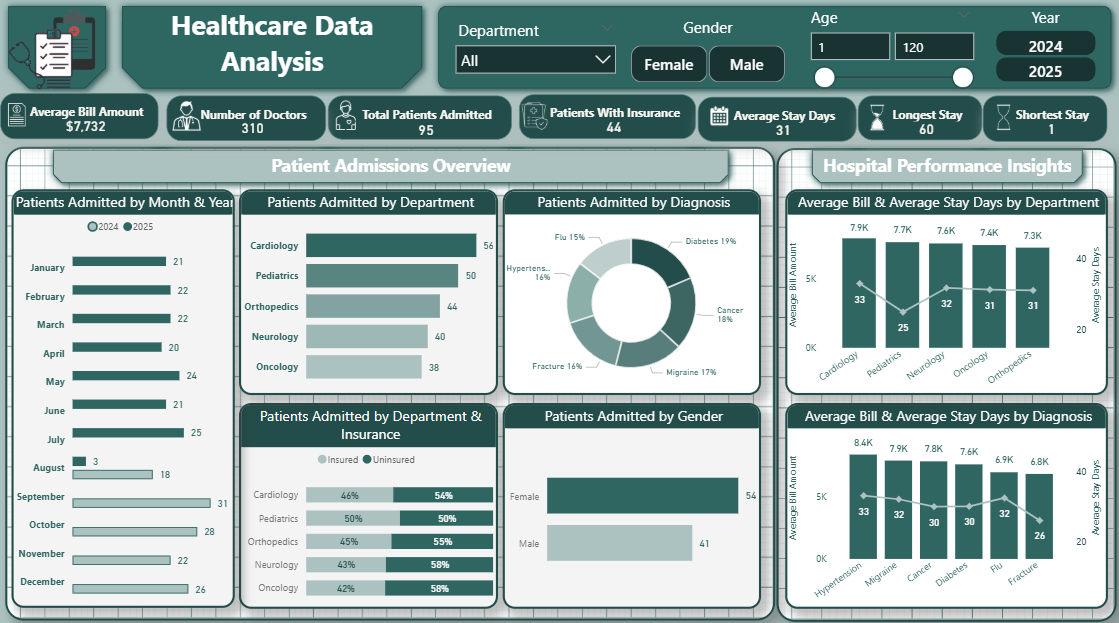

Layout of this report page (visuals, bound fields, positions):
{"tool":"powerbi","page":{"name":"Healthcare Data Analysis Dashboard","canvas":[1280,720],"ordinal":0},"visuals":[{"type":"image","box":[888.8,171.2,388.8,541.2],"z":0},{"type":"image","box":[7.5,170,880,541.2],"z":1000},{"type":"shape","box":[492.5,0,787.5,112.5],"z":2000},{"type":"slicer","fields":{"Values":["healthcare_patient_records.Department"]},"box":[516.7,21.4,192.9,67.9],"z":3000},{"type":"advancedSlicerVisual","fields":{"Values":["healthcare_patient_records.AdmissionDate.Variation.Date Hierarchy.Year"]},"box":[1137.5,10,116.2,91.2],"z":4000},{"type":"advancedSlicerVisual","fields":{"Values":["healthcare_patient_records.Gender"]},"box":[720.2,21.4,178.6,79.8],"z":5000},{"type":"slicer","fields":{"Values":["healthcare_patient_records.Age"]},"box":[919.6,10,197.5,143.8],"z":6000},{"type":"shape","box":[131.2,0,361.2,112.5],"z":7000},{"type":"card","title":"Total Patients Admitted","fields":{"Values":["Measures_.Total Patients Admitted"]},"box":[375.8,111.8,210,50],"z":8000,"group":"g2"},{"type":"hundredPercentStackedBarChart","title":"Patients Admitted by Department & Insurance","fields":{"Category":["healthcare_patient_records.Department"],"Y":["Healthcare_Measures.Patients Admitted"],"Series":["Distinct Patients.Insurance"]},"box":[273.8,462.5,296.2,235],"z":8000},{"type":"card","title":"Average Stay Days","fields":{"Values":["Measures_.Average_StayDays"]},"box":[798.5,112.5,181.2,51.2],"z":9000,"group":"g5"},{"type":"clusteredBarChart","title":"Patients Admitted by Month & Year","fields":{"Category":["healthcare_patient_records.AdmissionDate.Variation.Date Hierarchy.Month","healthcare_patient_records.AdmissionDate"],"Y":["Healthcare_Measures.Patients Admitted"],"Series":["healthcare_patient_records.AdmissionDate.Variation.Date Hierarchy.Year"]},"box":[13.8,218.8,255,478.8],"z":9000},{"type":"card","title":"Number of Doctors","fields":{"Values":["Measures_.Total Number of Doctors"]},"box":[192.3,110.9,182.2,51.9],"z":10000,"group":"g3"},{"type":"barChart","fields":{"Y":["Healthcare_Measures.Total Patients Admitted"],"Category":["healthcare_patient_records.Department"]},"box":[273.8,218.8,296.2,235],"z":10000},{"type":"card","title":"Patients With Insurance","fields":{"Values":["Measures_.Patients With Insurance"]},"box":[594.6,110.7,202.6,51.2],"z":11000,"group":"g1"},{"type":"donutChart","fields":{"Category":["healthcare_patient_records.Diagnosis"],"Y":["Healthcare_Measures.Total Patients Admitted"]},"box":[575,218.8,295,235],"z":11000},{"type":"card","title":"Longest Stay","fields":{"Values":["Measures_.Longest Stay"]},"box":[981.1,110.8,142.5,51.2],"z":12000,"group":"g6"},{"type":"barChart","fields":{"Category":["Distinct Patients.Gender"],"Y":["Healthcare_Measures.Patients Admitted"]},"box":[575,462.5,295,235],"z":12000},{"type":"card","title":"Shortest Stay","fields":{"Values":["Measures_.Shortest Stay"]},"box":[1125,111,142.5,52.5],"z":13000,"group":"g7"},{"type":"lineStackedColumnComboChart","title":"Average Bill & Average Stay Days by Diagnosis","fields":{"Category":["healthcare_patient_records.Diagnosis"],"Y":["Healthcare_Measures.Average Bill Amount"],"Y2":["Healthcare_Measures.Average Stay Days"]},"box":[898.8,462.5,368.8,235],"z":13000},{"type":"card","title":"Average Bill Amount","fields":{"Values":["Measures_.Average Bill Amount"]},"box":[1.2,108.6,181,53.1],"z":14000,"group":"g4"},{"type":"lineStackedColumnComboChart","title":"Average Bill & Average Stay Days by Department","fields":{"Y":["Healthcare_Measures.Average Bill Amount"],"Y2":["Healthcare_Measures.Average Stay Days"],"Category":["healthcare_patient_records.Department"]},"box":[898.8,218.8,368.8,235],"z":14000},{"type":"shape","box":[52.5,163.8,790,56.2],"z":15000},{"type":"shape","box":[920,163.8,327.5,56.2],"z":16000},{"type":"shape","box":[1.2,0,130,112.5],"z":17000},{"type":"image","box":[57.5,5,58.8,82.5],"z":18000},{"type":"image","box":[3.8,25,83.8,87.5],"z":19000},{"type":"group","id":"g1","title":"Group 1","box":[585.4,85,211.8,100.9],"z":20000},{"type":"group","id":"g2","title":"Group 2","box":[375.8,111.8,210,50],"z":21000},{"type":"group","id":"g3","title":"Group 3","box":[183.5,83.8,191,102.5],"z":22000},{"type":"group","id":"g4","title":"Group 4","box":[1.2,108.6,181,53.1],"z":23000},{"type":"group","id":"g5","title":"Group 5","box":[798.5,112.5,181.2,51.2],"z":24000},{"type":"group","id":"g6","title":"Group 6","box":[981.1,110.8,142.5,51.2],"z":25000},{"type":"group","id":"g7","title":"Group 7","box":[1125,111,142.5,52.5],"z":26000},{"type":"image","box":[7.5,111.3,26.2,43.8],"z":27000,"group":"g4"},{"type":"image","box":[183.5,83.8,63.8,102.5],"z":28000,"group":"g3"},{"type":"image","box":[377.6,117.3,38.2,33.6],"z":29000,"group":"g2"},{"type":"image","box":[808,117.5,28.8,33.8],"z":30000,"group":"g5"},{"type":"image","box":[991.2,118.8,26.2,35],"z":31000,"group":"g6"},{"type":"image","box":[1136,117.5,25,36.2],"z":32000,"group":"g7"},{"type":"image","box":[585.4,85,52.7,100.9],"z":33000,"group":"g1"}]}

Visuals, with their boxes in screenshot pixels (x1, y1, x2, y2), scaled from the page's 1280x720 canvas onto the 1119x623 screenshot:
image: x1=777 y1=148 x2=1117 y2=616
image: x1=7 y1=147 x2=776 y2=615
shape: x1=431 y1=0 x2=1118 y2=97
slicer - healthcare_patient_records.Department: x1=452 y1=19 x2=620 y2=77
advancedSlicerVisual - healthcare_patient_records.AdmissionDate.Variation.Date Hierarchy.Year: x1=994 y1=9 x2=1096 y2=88
advancedSlicerVisual - healthcare_patient_records.Gender: x1=630 y1=19 x2=786 y2=88
slicer - healthcare_patient_records.Age: x1=804 y1=9 x2=977 y2=133
shape: x1=115 y1=0 x2=430 y2=97
"Total Patients Admitted" card: x1=329 y1=97 x2=512 y2=140
"Patients Admitted by Department & Insurance" hundredPercentStackedBarChart: x1=239 y1=400 x2=498 y2=604
"Average Stay Days" card: x1=698 y1=97 x2=856 y2=142
"Patients Admitted by Month & Year" clusteredBarChart: x1=12 y1=189 x2=235 y2=604
"Number of Doctors" card: x1=168 y1=96 x2=327 y2=141
barChart - Healthcare_Measures.Total Patients Admitted x healthcare_patient_records.Department: x1=239 y1=189 x2=498 y2=393
"Patients With Insurance" card: x1=520 y1=96 x2=697 y2=140
donutChart - healthcare_patient_records.Diagnosis x Healthcare_Measures.Total Patients Admitted: x1=503 y1=189 x2=761 y2=393
"Longest Stay" card: x1=858 y1=96 x2=982 y2=140
barChart - Distinct Patients.Gender x Healthcare_Measures.Patients Admitted: x1=503 y1=400 x2=761 y2=604
"Shortest Stay" card: x1=983 y1=96 x2=1108 y2=141
"Average Bill & Average Stay Days by Diagnosis" lineStackedColumnComboChart: x1=786 y1=400 x2=1108 y2=604
"Average Bill Amount" card: x1=1 y1=94 x2=159 y2=140
"Average Bill & Average Stay Days by Department" lineStackedColumnComboChart: x1=786 y1=189 x2=1108 y2=393
shape: x1=46 y1=142 x2=737 y2=190
shape: x1=804 y1=142 x2=1091 y2=190
shape: x1=1 y1=0 x2=115 y2=97
image: x1=50 y1=4 x2=102 y2=76
image: x1=3 y1=22 x2=77 y2=97
"Group 1" group: x1=512 y1=74 x2=697 y2=161
"Group 2" group: x1=329 y1=97 x2=512 y2=140
"Group 3" group: x1=160 y1=73 x2=327 y2=161
"Group 4" group: x1=1 y1=94 x2=159 y2=140
"Group 5" group: x1=698 y1=97 x2=856 y2=142
"Group 6" group: x1=858 y1=96 x2=982 y2=140
"Group 7" group: x1=983 y1=96 x2=1108 y2=141
image: x1=7 y1=96 x2=29 y2=134
image: x1=160 y1=73 x2=216 y2=161
image: x1=330 y1=101 x2=364 y2=131
image: x1=706 y1=102 x2=732 y2=131
image: x1=867 y1=103 x2=889 y2=133
image: x1=993 y1=102 x2=1015 y2=133
image: x1=512 y1=74 x2=558 y2=161
